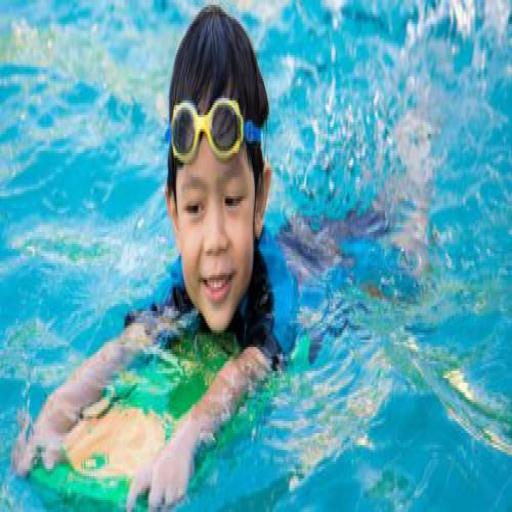swimming: (15, 0, 372, 481)
